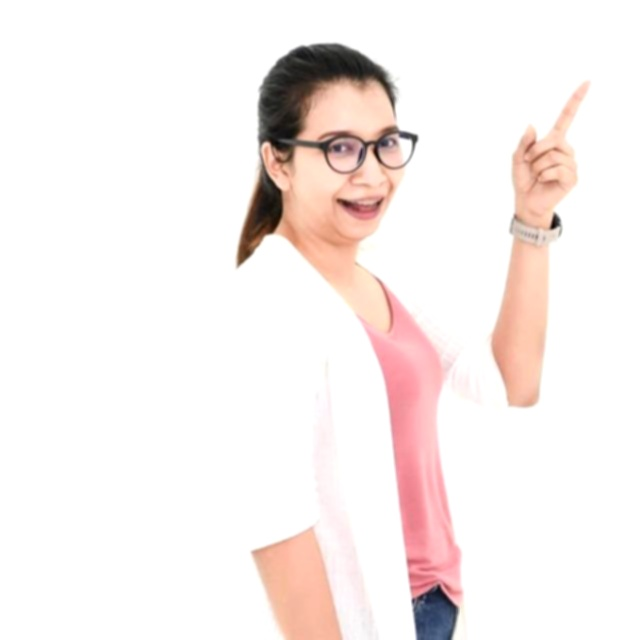Sin_Casco_Mascarrilla: (256, 39, 414, 243)
Sin_Chaleco: (224, 253, 465, 640)
